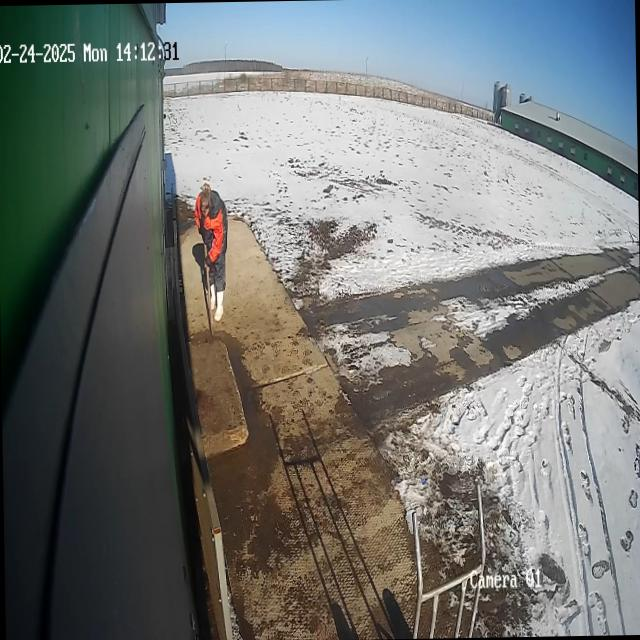Red uniform: (194, 182, 227, 321)
